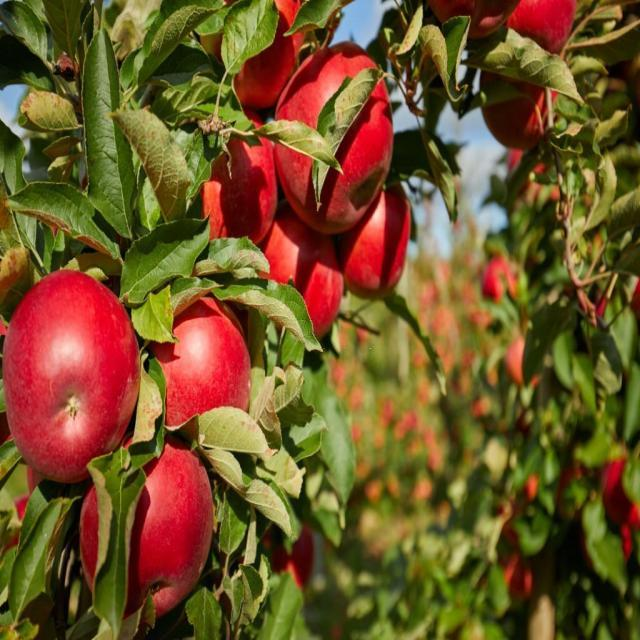Red Apple: (83, 435, 230, 612), (10, 274, 140, 472), (279, 41, 389, 225), (137, 286, 248, 440), (185, 111, 283, 253), (203, 1, 308, 109), (261, 210, 344, 335), (344, 172, 415, 300), (478, 42, 556, 145), (503, 1, 576, 60), (430, 1, 515, 47), (264, 525, 319, 586), (594, 456, 640, 528), (4, 460, 36, 539), (496, 476, 538, 535), (495, 551, 536, 606), (513, 150, 549, 204), (510, 334, 543, 390), (481, 261, 521, 303), (600, 526, 640, 556), (590, 290, 618, 322), (628, 277, 640, 312)
